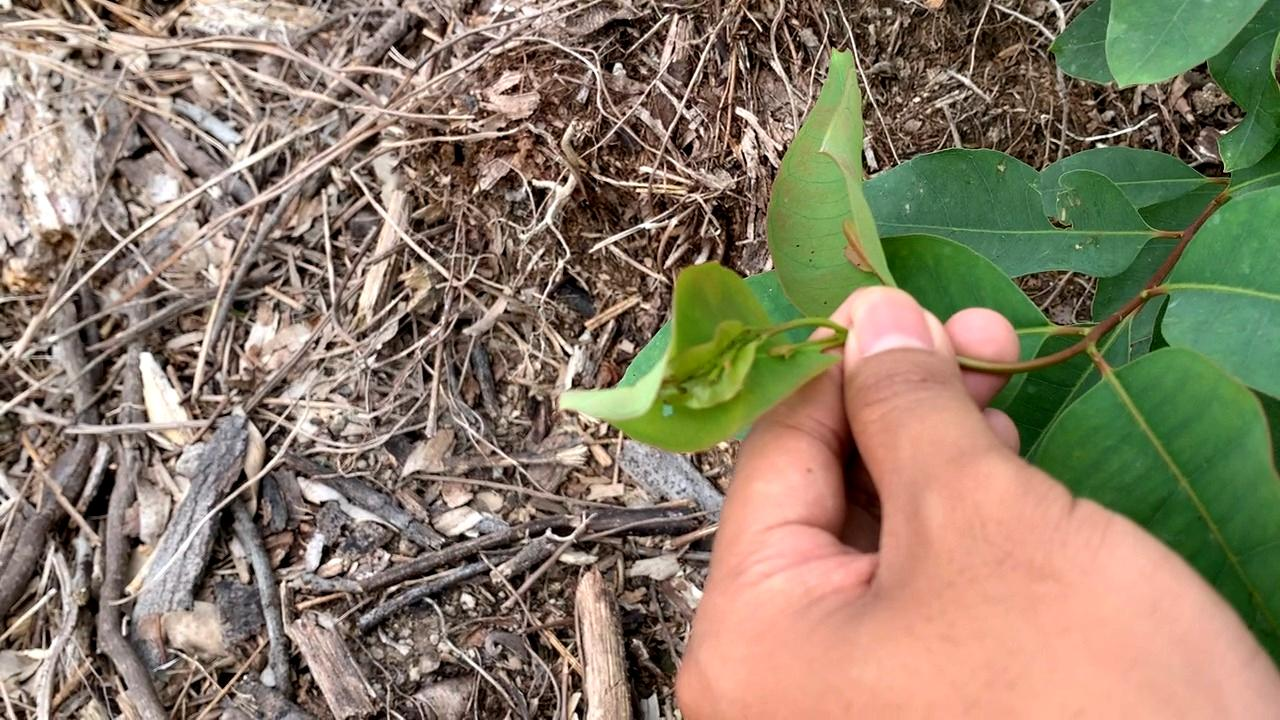Leaf Roller - Leaf: (565, 258, 839, 452)
